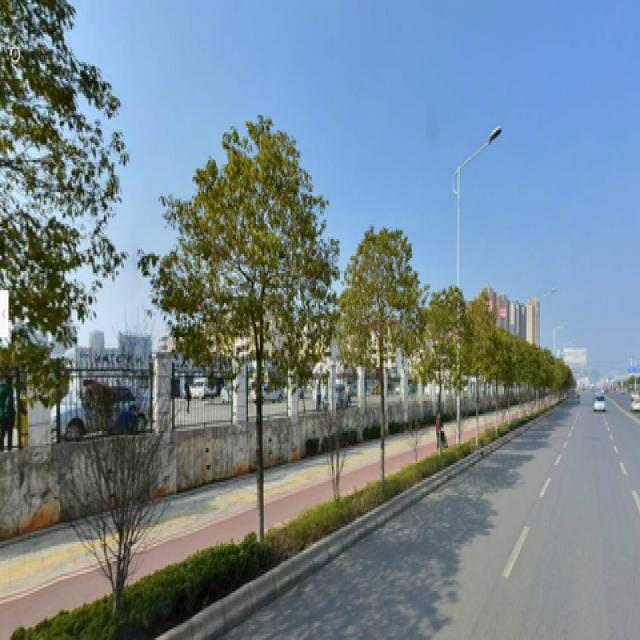cinn: (188, 136, 309, 542), (347, 211, 393, 459), (420, 288, 449, 461)
